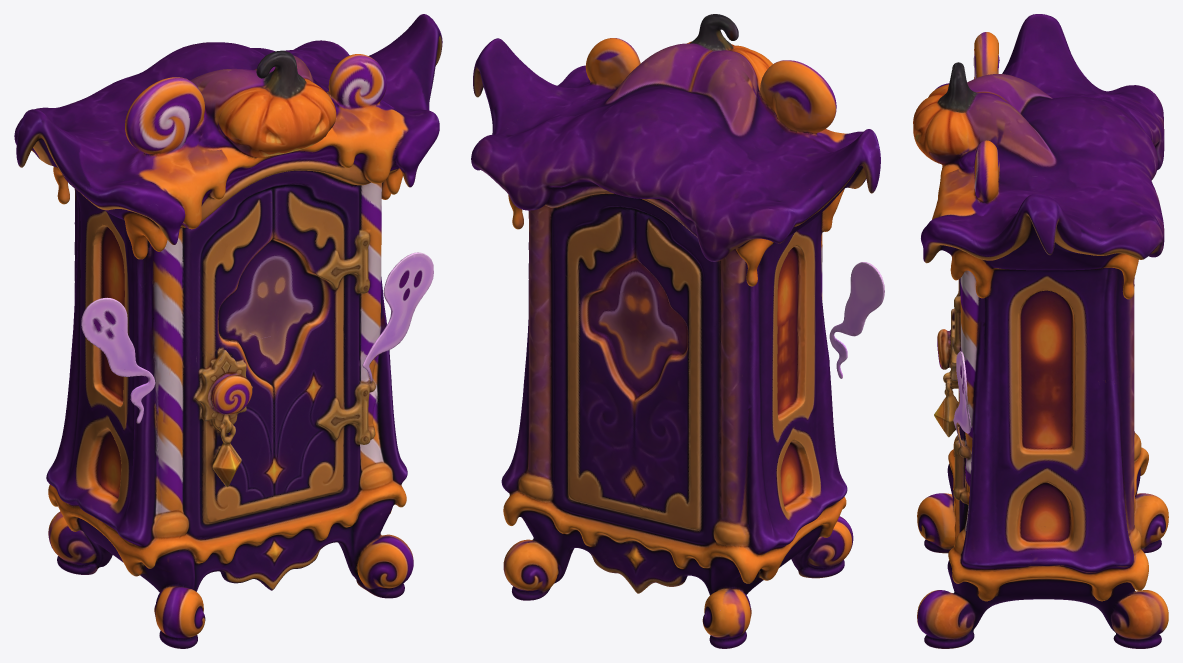
Rendered from Chaseween_Haunted_Locker.glb.
3 views of the same model, side by side, from view 1: azimuth 30°, elevation 25°; view 2: azimuth 150°, elevation 25°; view 3: azimuth 270°, elevation 25° (orthographic). The views are drawn at different scales.
Size of the model in its own units: 1.5 by 1.9 by 0.8287.
1 material, 1 textured.
